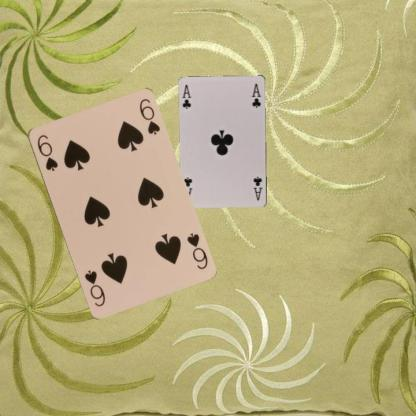6s: (34, 132, 59, 172), (184, 230, 208, 270)
Ac: (251, 174, 264, 202), (180, 82, 192, 110)
